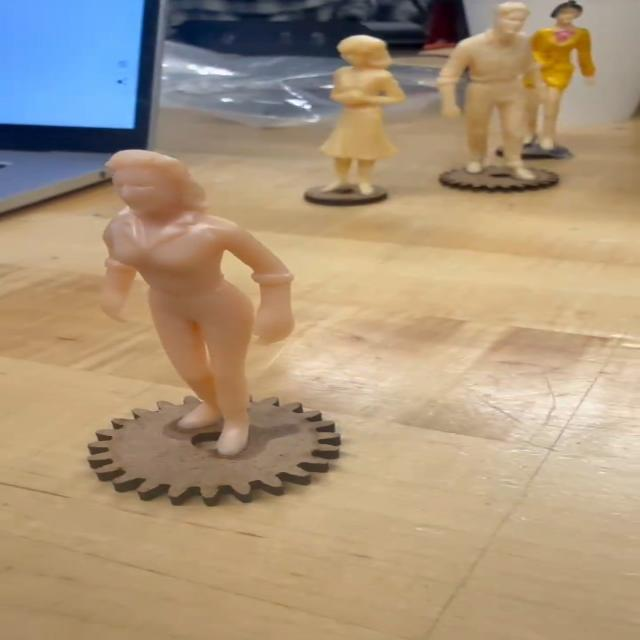Unauthorized: (90, 149, 303, 459)
